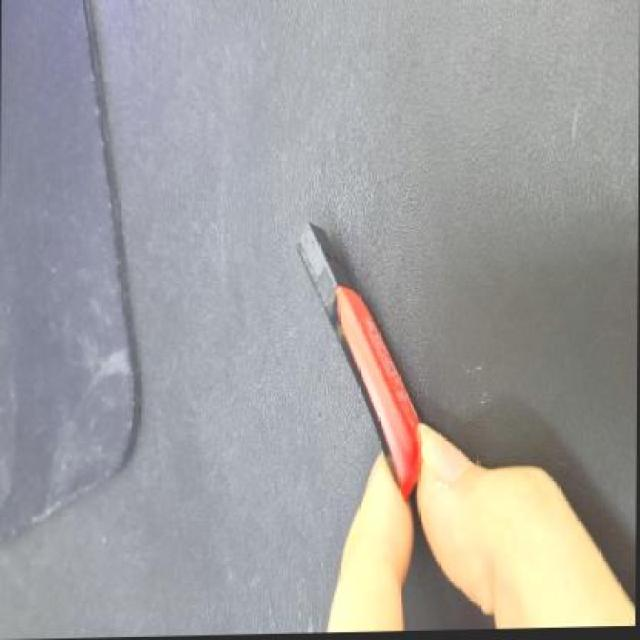Flashdisk: (290, 222, 422, 509)
